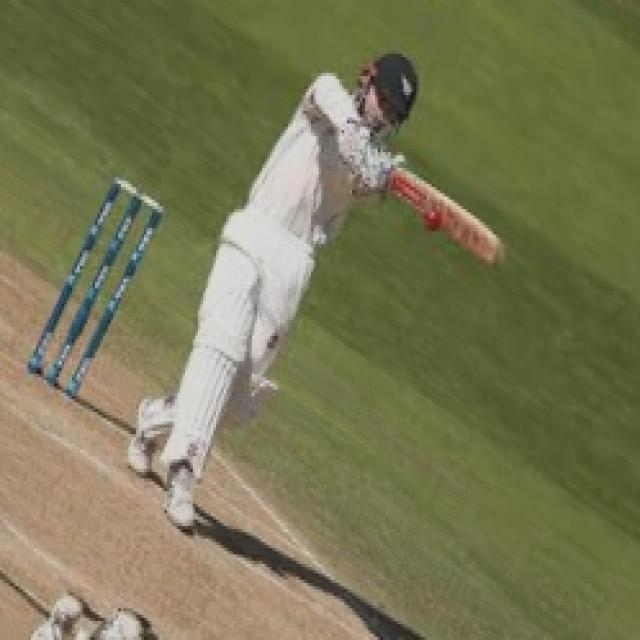toe: (474, 217, 506, 269)
